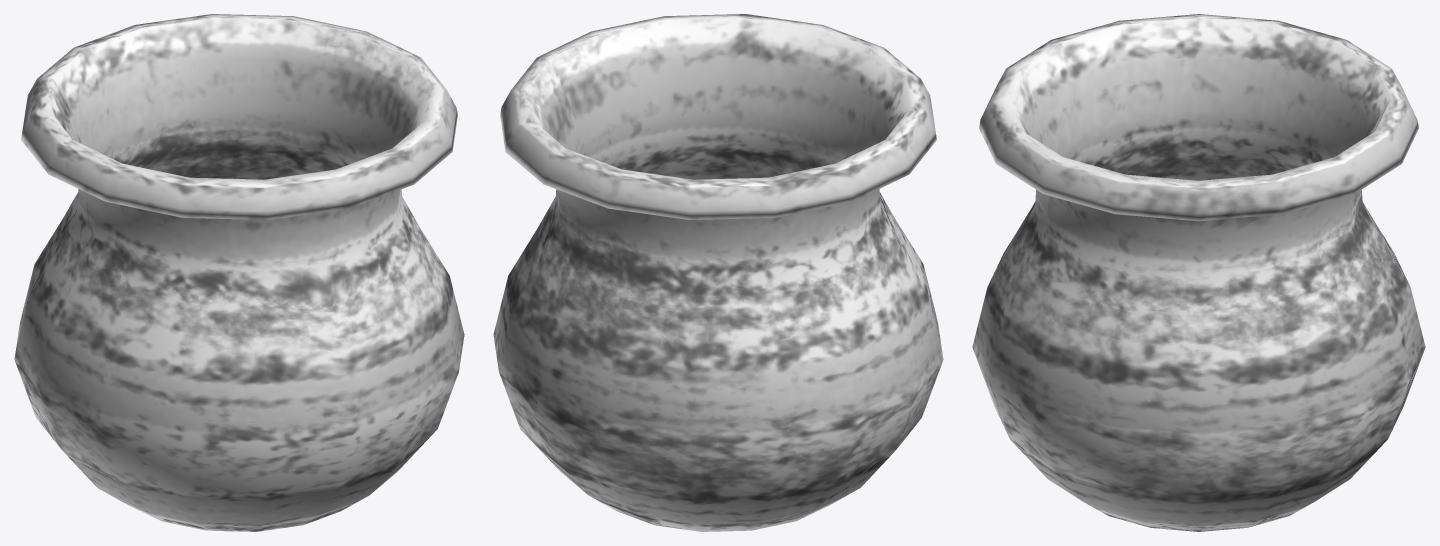
Rendered from Pot.fbx.
3 renders of one model, left to right at view 1: azimuth 30°, elevation 25°; view 2: azimuth 150°, elevation 25°; view 3: azimuth 270°, elevation 25°, orthographic.
Parts seen in each view (by area): view 1: Plane.001; view 2: Plane.001; view 3: Plane.001.
Boxes of the visible parts, x1,y1,x2,y2 form: Plane.001: (14, 14, 464, 531); Plane.001: (493, 14, 943, 531); Plane.001: (972, 14, 1425, 531).
Bounding box in the file's own units: 0.5587 × 0.5587 × 0.528.
1 material, 1 textured.
